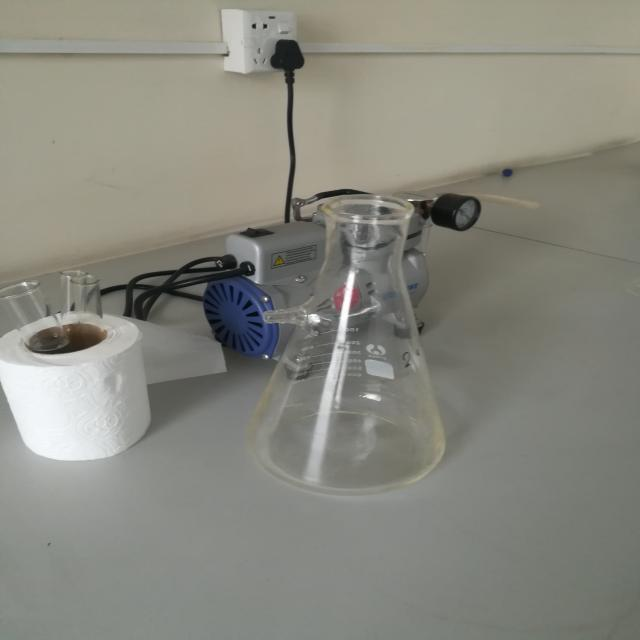Conical_Flask: (220, 166, 521, 523)
